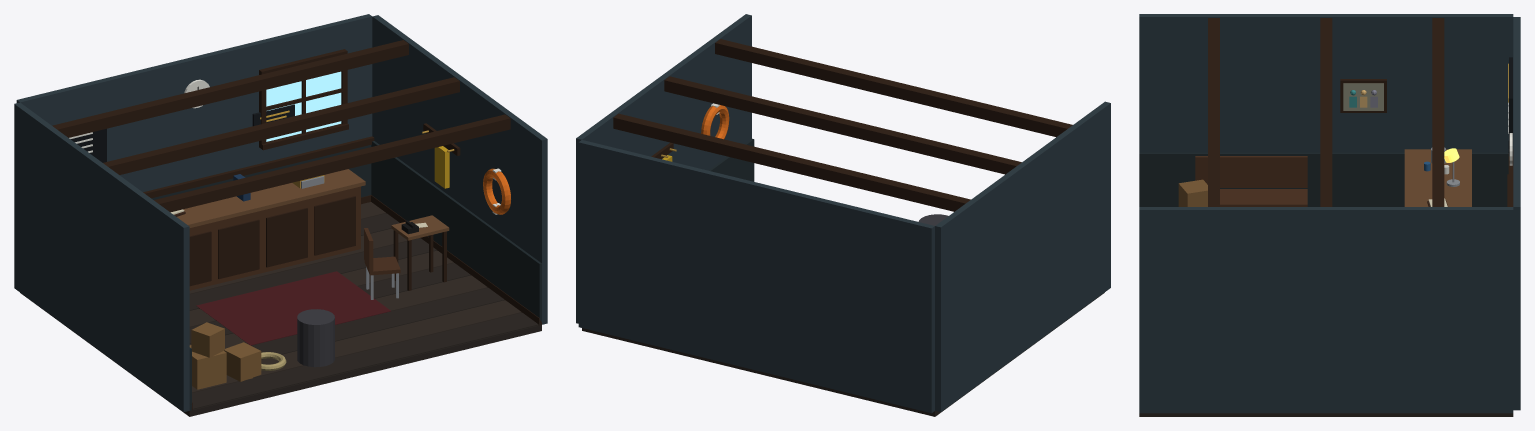
File: harbor_office.glb
3 views of the same model, side by side, from view 1: azimuth 30°, elevation 25°; view 2: azimuth 150°, elevation 25°; view 3: azimuth 270°, elevation 25° (orthographic). The views are drawn at different scales.
Visible parts, largest first — view 1: WallLeft, WallBack, WallRight, BandRight, Rug, Beam0, Beam1, Beam2, Plank0, Plank1, CounterBody, CounterTop (+27 smaller); view 2: WallBack, WallLeft, WallRight, Beam0, Beam2, Beam1, Floor, BandRight, Lifebuoy; view 3: WallRight, WallLeft, BandLeft, WallBack, BenchBack, CounterTop, Beam1, Beam2, Beam0, BenchSeat, Floor, PhotoPrint (+2 smaller).
Part boxes in pixels (left/top/right/bottom): WallLeft: left=14, top=102, right=189, bottom=411; WallBack: left=16, top=14, right=372, bottom=191; WallRight: left=372, top=15, right=547, bottom=324; BandRight: left=371, top=141, right=541, bottom=324; Rug: left=196, top=271, right=390, bottom=345; Beam0: left=154, top=114, right=510, bottom=212; Beam1: left=103, top=77, right=459, bottom=174; Beam2: left=52, top=40, right=408, bottom=137; Plank0: left=192, top=312, right=538, bottom=409; Plank1: left=192, top=300, right=521, bottom=392; CounterBody: left=189, top=186, right=360, bottom=290; CounterTop: left=177, top=169, right=365, bottom=227; WallBack: left=578, top=140, right=934, bottom=413; WallLeft: left=935, top=101, right=1110, bottom=411; WallRight: left=576, top=14, right=751, bottom=323; Beam0: left=715, top=39, right=1072, bottom=137; Beam2: left=613, top=113, right=970, bottom=211; Beam1: left=664, top=76, right=1021, bottom=174; Floor: left=582, top=292, right=1104, bottom=416; BandRight: left=708, top=138, right=754, bottom=181; Lifebuoy: left=701, top=105, right=729, bottom=139; WallRight: left=1139, top=207, right=1513, bottom=413; WallLeft: left=1139, top=14, right=1513, bottom=152; BandLeft: left=1139, top=152, right=1508, bottom=206; WallBack: left=1513, top=17, right=1520, bottom=410; BenchBack: left=1195, top=156, right=1307, bottom=187; CounterTop: left=1404, top=149, right=1471, bottom=206; Beam1: left=1320, top=18, right=1332, bottom=206; Beam2: left=1432, top=18, right=1444, bottom=206; Beam0: left=1208, top=18, right=1219, bottom=206; BenchSeat: left=1220, top=189, right=1307, bottom=206; Floor: left=1139, top=413, right=1513, bottom=416; PhotoPrint: left=1343, top=83, right=1383, bottom=110.
Size of the model in its own units: 6.2 by 3.1 by 5.1.
